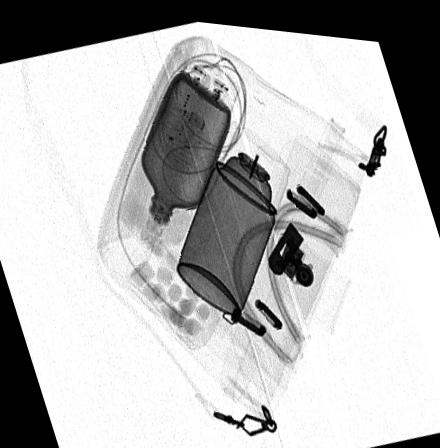Sprayer: (177, 113, 290, 310)
